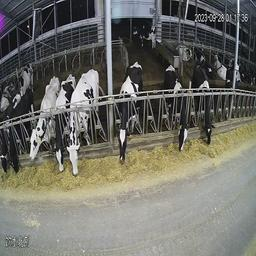cow: (67, 65, 102, 182), (26, 67, 57, 178), (116, 55, 144, 171), (161, 60, 190, 159), (50, 65, 70, 182), (193, 62, 217, 152), (10, 88, 32, 182), (132, 21, 157, 50), (1, 107, 10, 177), (214, 51, 227, 83), (179, 39, 193, 64)
